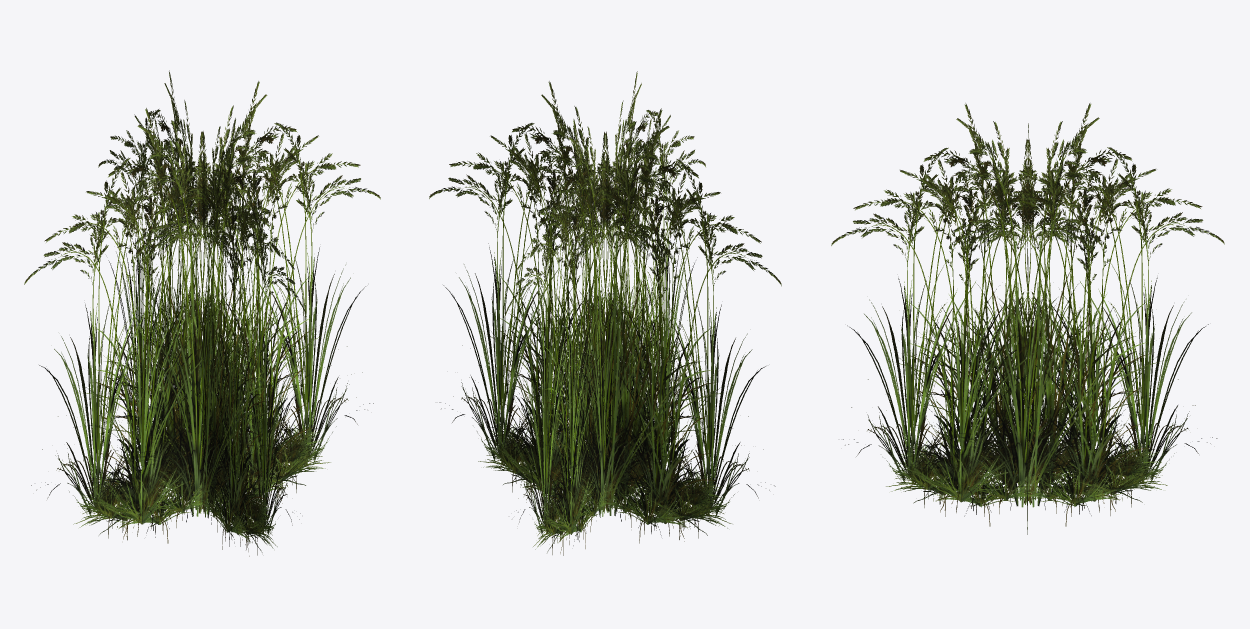
Rendered from grass6.fbx.
The picture shows the model from 3 angles, left to right: view 1: azimuth 30°, elevation 25°; view 2: azimuth 150°, elevation 25°; view 3: azimuth 270°, elevation 25°; orthographic projection. The views are drawn at different scales.
Parts seen in each view (by area): view 1: grass6; view 2: grass6; view 3: grass6.
Boxes of the visible parts, x1,y1,x2,y2 form: grass6: [24, 70, 380, 556]; grass6: [429, 71, 781, 555]; grass6: [831, 103, 1224, 534].
Bounding box in the file's own units: 107 × 121 × 107.
1 material, 1 textured.
